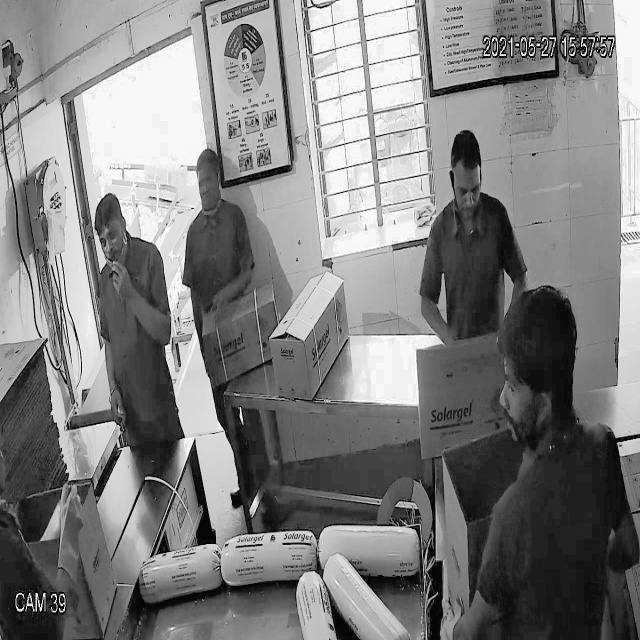Sin_gafas: (448, 170, 489, 204), (93, 220, 131, 252)
